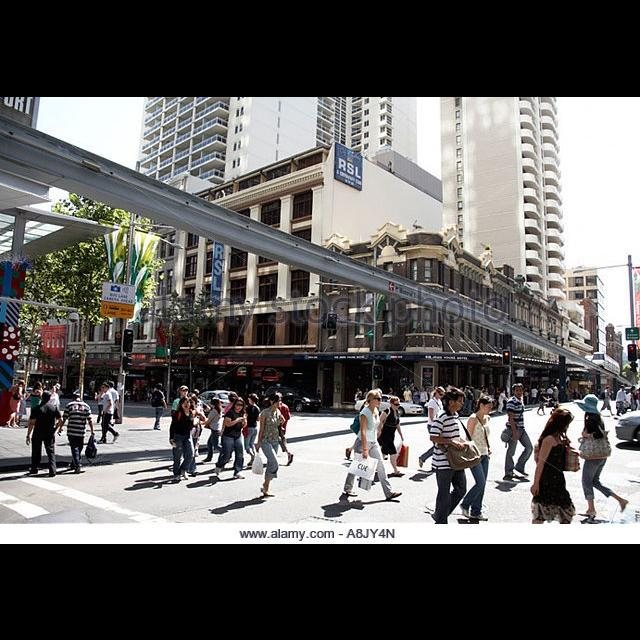head: (549, 406, 575, 434), (446, 386, 466, 410), (366, 388, 384, 408), (478, 396, 494, 416), (585, 395, 599, 411), (272, 393, 284, 409), (512, 382, 524, 398), (180, 396, 192, 410), (390, 396, 402, 410), (228, 392, 240, 404), (234, 398, 246, 410), (434, 386, 446, 398), (180, 387, 192, 398), (372, 390, 383, 402), (42, 392, 52, 403), (74, 391, 82, 402), (212, 397, 220, 408), (50, 383, 59, 392), (102, 383, 110, 393), (250, 394, 258, 404), (192, 393, 200, 402), (193, 389, 201, 398), (275, 393, 283, 402), (36, 381, 44, 389), (156, 382, 164, 390), (108, 380, 115, 388), (99, 388, 105, 394), (22, 384, 26, 390), (622, 385, 626, 391), (20, 382, 24, 386), (406, 387, 410, 391), (414, 388, 418, 392), (422, 388, 426, 392), (483, 390, 487, 394), (502, 389, 506, 393), (533, 385, 537, 389), (542, 390, 546, 394), (606, 386, 610, 390), (633, 386, 637, 390), (391, 387, 394, 391)
person: (428, 386, 484, 534), (572, 392, 632, 518), (341, 386, 404, 502), (458, 392, 498, 522), (366, 394, 414, 478), (252, 390, 288, 498), (343, 386, 392, 462), (498, 382, 534, 482), (24, 390, 64, 478), (58, 386, 98, 472), (214, 396, 250, 480), (418, 385, 454, 469), (170, 393, 198, 481), (198, 395, 234, 463), (218, 390, 250, 466), (265, 389, 295, 466), (170, 384, 193, 470), (184, 387, 212, 457), (184, 392, 206, 472), (243, 390, 263, 470), (96, 380, 120, 444), (5, 378, 28, 427), (102, 378, 122, 429), (26, 378, 46, 428), (150, 382, 170, 431), (14, 379, 31, 427), (46, 384, 62, 428), (94, 382, 110, 426), (598, 384, 616, 416), (614, 382, 630, 418), (476, 390, 496, 414), (496, 387, 512, 415), (535, 386, 549, 414), (628, 384, 640, 416), (528, 382, 540, 406), (387, 385, 398, 409), (403, 384, 413, 408), (413, 385, 422, 409), (419, 385, 428, 409)
